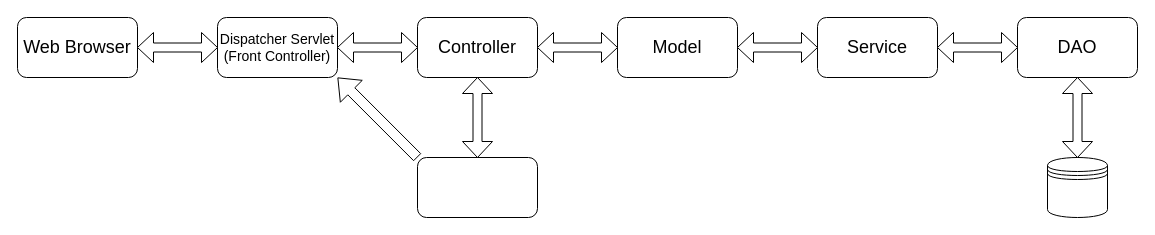
Image size: 1155x235. Some labels were removed from this diagram. The shapes that lost their labels are listed below. From the top down, each one's centre as x and y in pixels, then its label:
the point at 477,187: View
the point at 1077,187: MySQL
